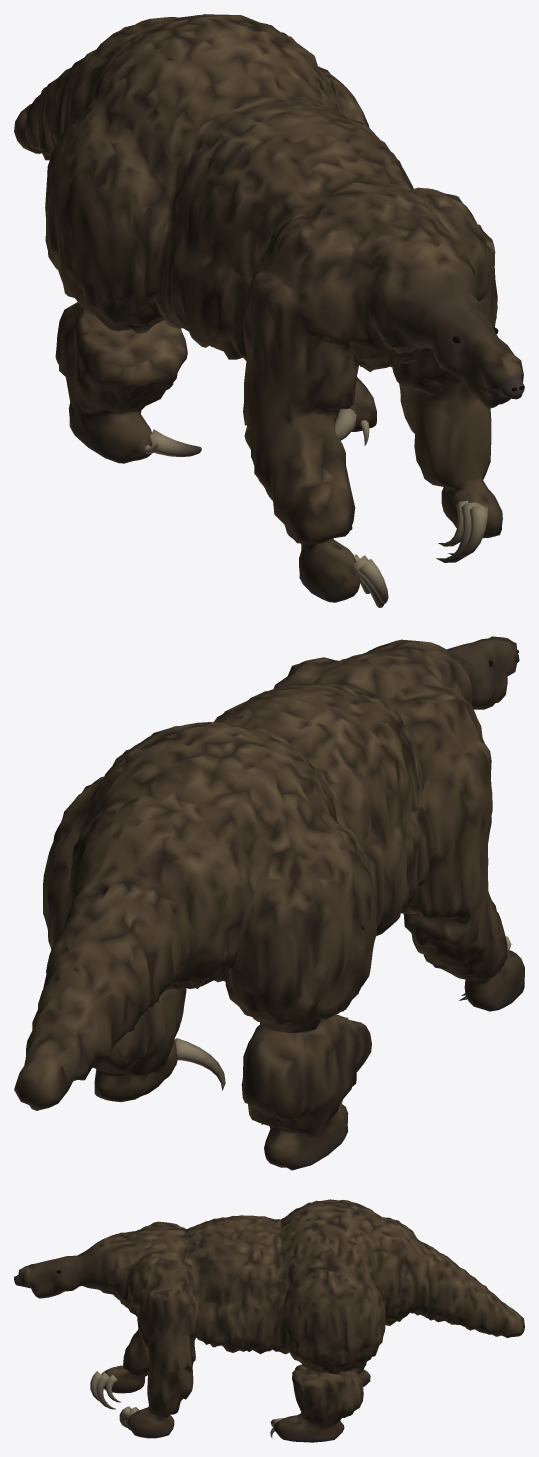
Rendered from MegatheriumTarijense.fbx.
3 views of the same model, one above another, from view 1: azimuth 30°, elevation 25°; view 2: azimuth 150°, elevation 25°; view 3: azimuth 270°, elevation 25° (orthographic). The views are drawn at different scales.
Parts seen in each view (by area): view 1: MegatheriumTarijense; view 2: MegatheriumTarijense; view 3: MegatheriumTarijense.
Boxes of the visible parts, x1,y1,x2,y2 form: MegatheriumTarijense: [14, 14, 524, 607]; MegatheriumTarijense: [14, 636, 524, 1170]; MegatheriumTarijense: [14, 1199, 524, 1442].
Bounding box in the file's own units: 0.7399 × 0.9723 × 2.11.
